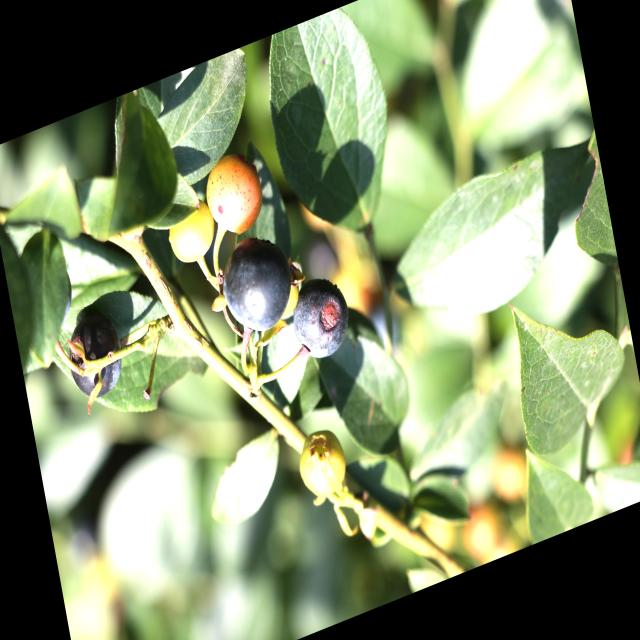blueberry: (216, 222, 300, 344), (286, 265, 355, 369), (64, 304, 128, 404)
blueberry-halfripe: (201, 144, 270, 246), (295, 424, 352, 504), (166, 201, 222, 269)
